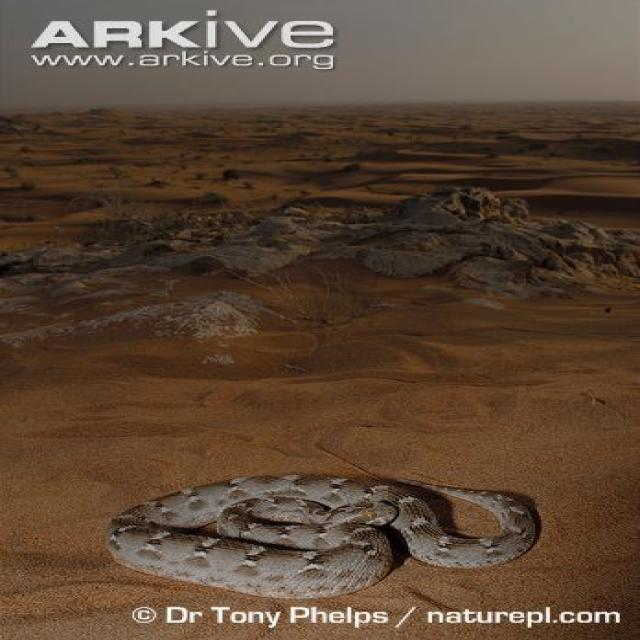Snake: (105, 472, 541, 600)
